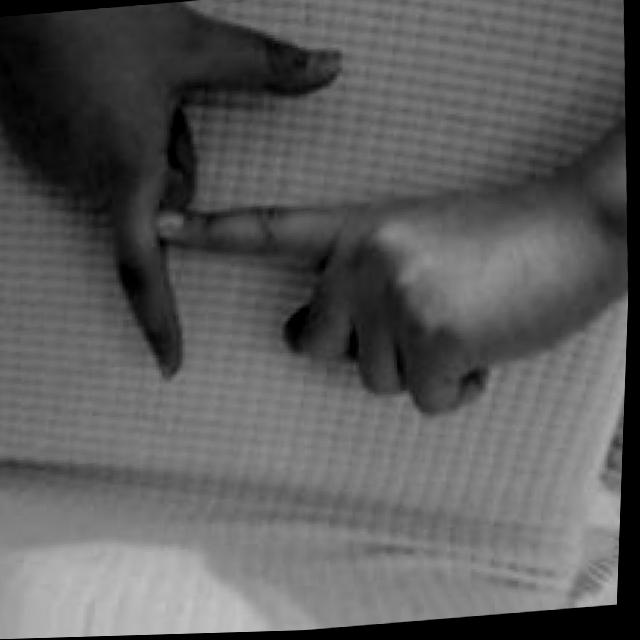F: (0, 0, 640, 450)
